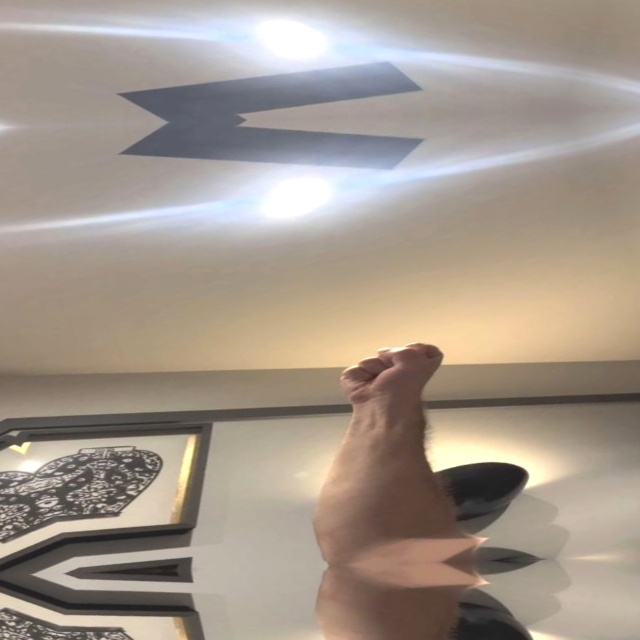Rock: (323, 334, 460, 406)
